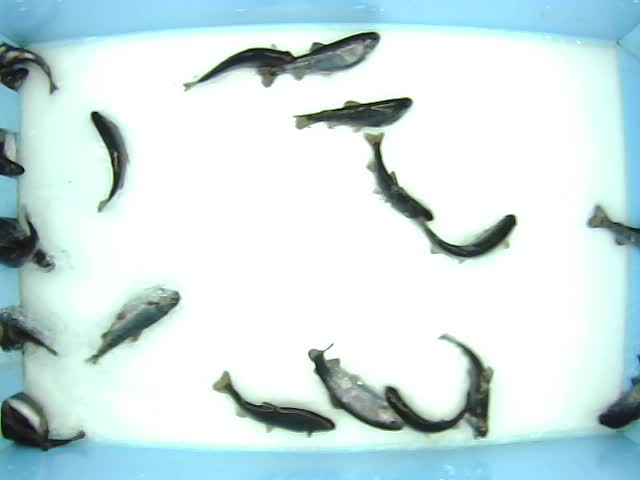fish: (385, 333, 477, 429), (212, 368, 337, 430), (303, 350, 402, 428), (256, 30, 384, 87), (85, 286, 179, 363), (367, 132, 436, 219), (183, 46, 294, 94), (293, 91, 413, 130), (419, 214, 517, 258), (90, 112, 130, 214), (471, 365, 498, 441)
